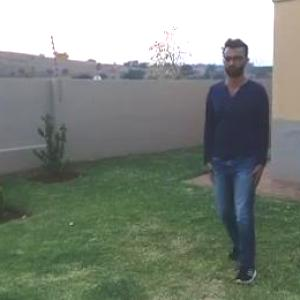follow: (204, 40, 274, 244)
